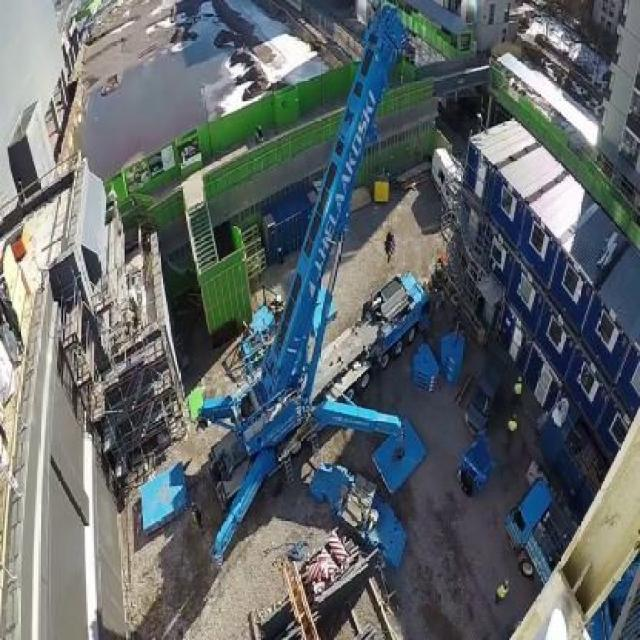Mobile Crane: (189, 0, 444, 572)
